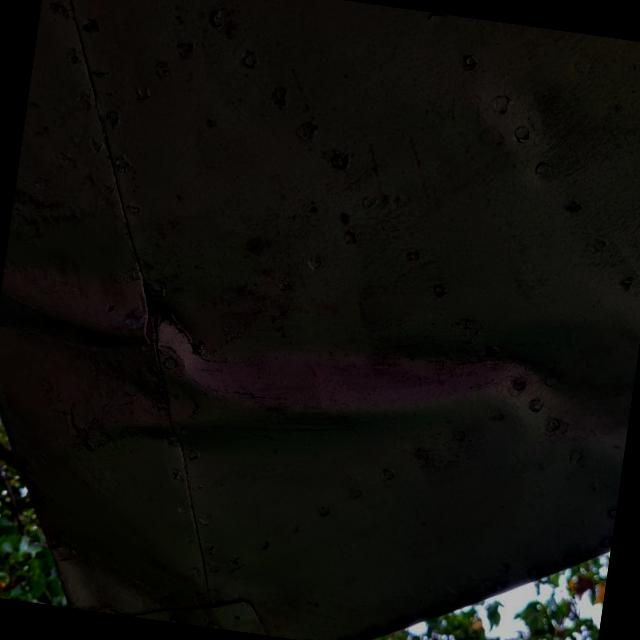crack: (146, 302, 218, 364)
dent: (0, 214, 640, 537)
